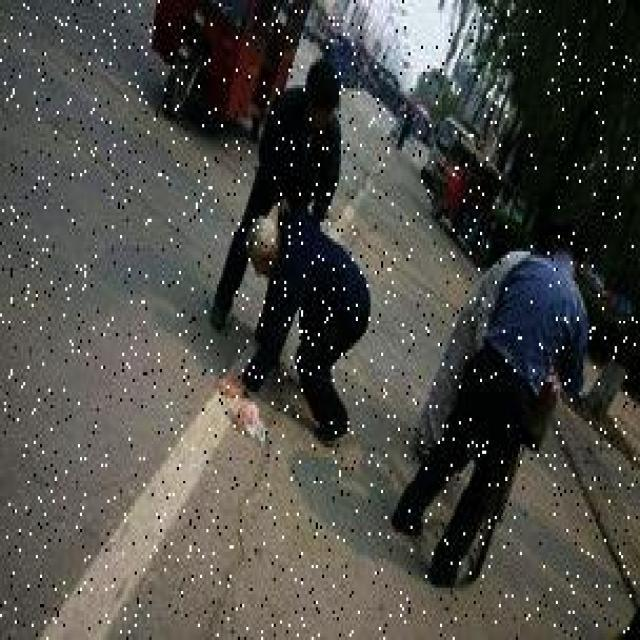fall: (223, 206, 379, 418)
